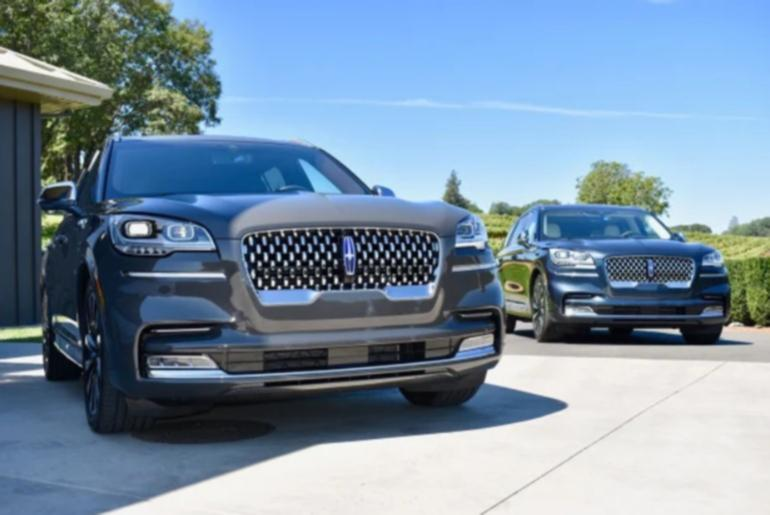lincoln: (331, 229, 367, 282), (642, 255, 658, 283)
